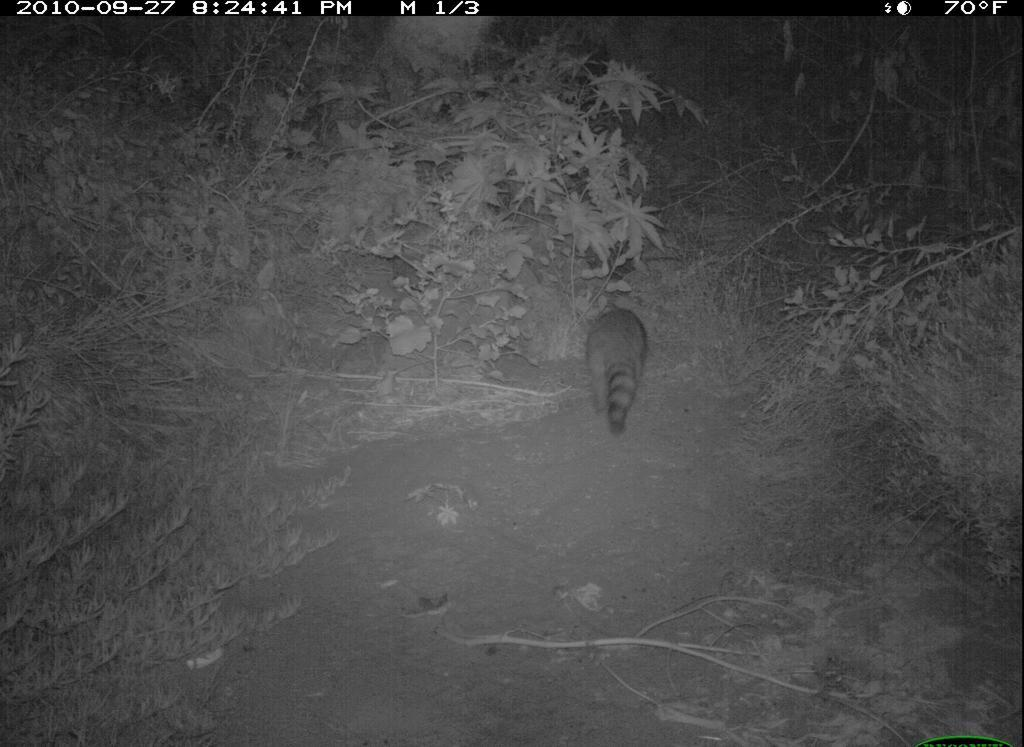raccoon: (578, 291, 657, 454)
